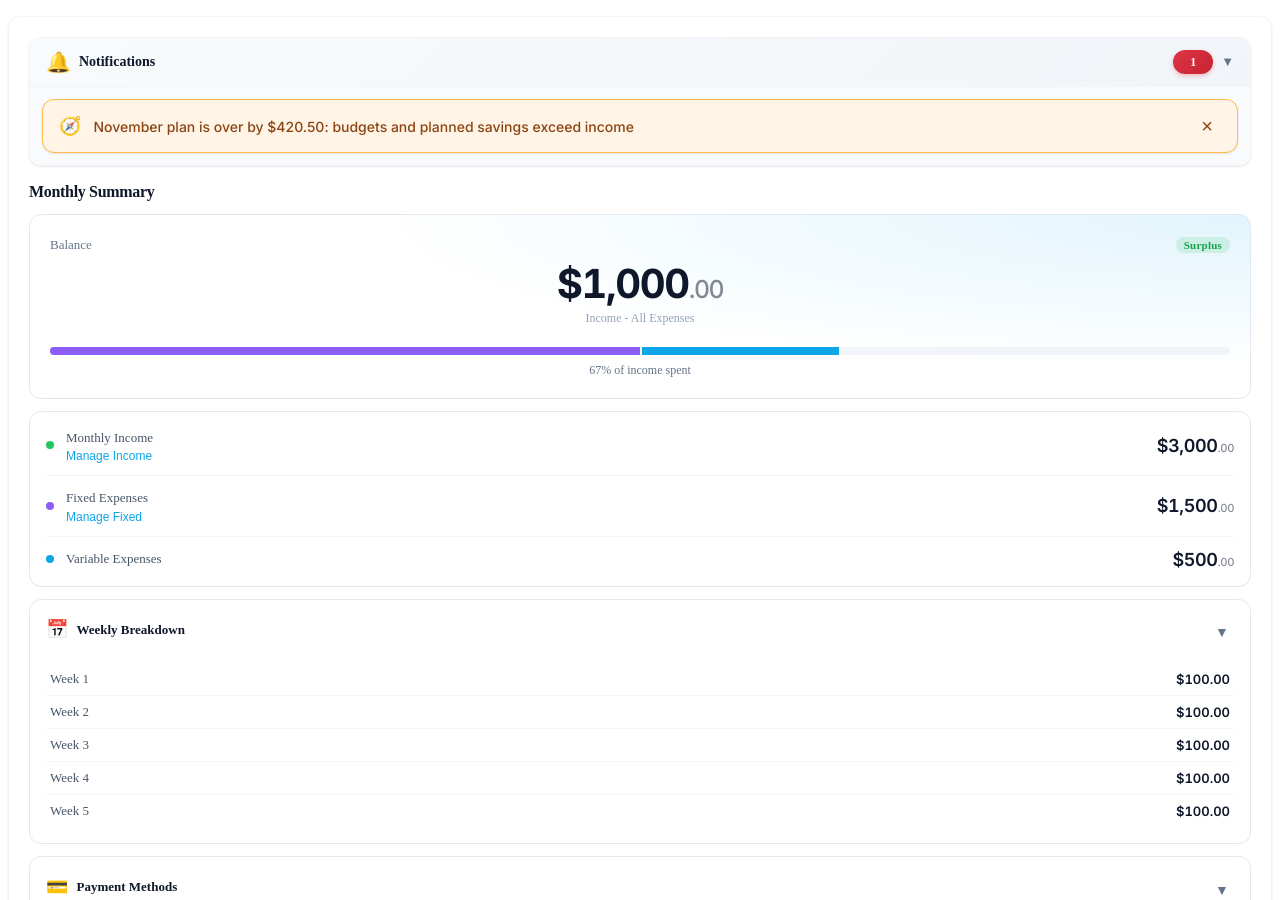
Test: SummaryPanel › Summary Grid Layout › over-planned notification › shows the amount over plan and opens the Plan tab when clicked
The image size is (1280, 900).
Click the button with test id "over-planned-banner": (128, 126) [42,99,1238,153]
(page scrolled)
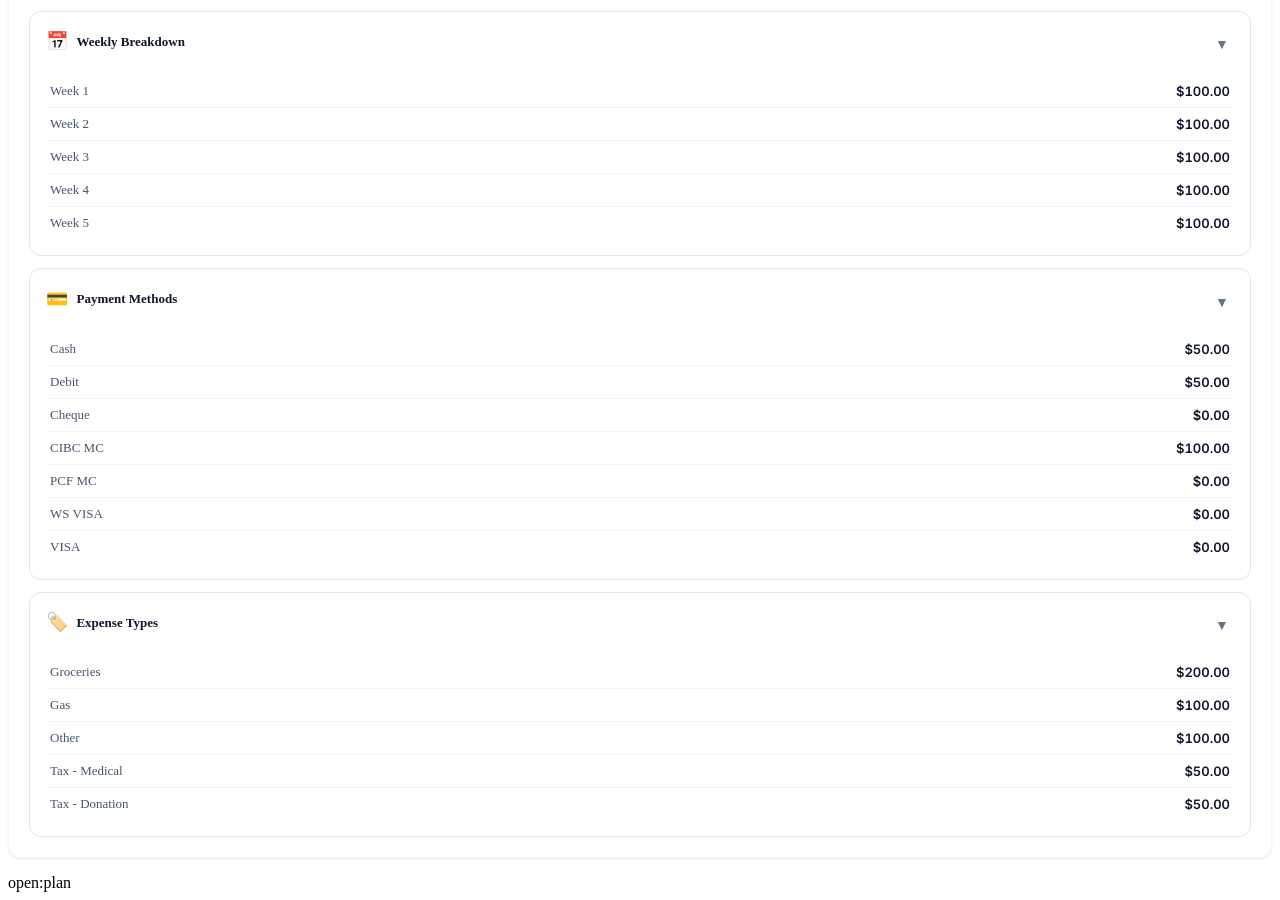
Result: the text with test id "budgets-probe" reads "open:plan" at [8,874,71,891]
